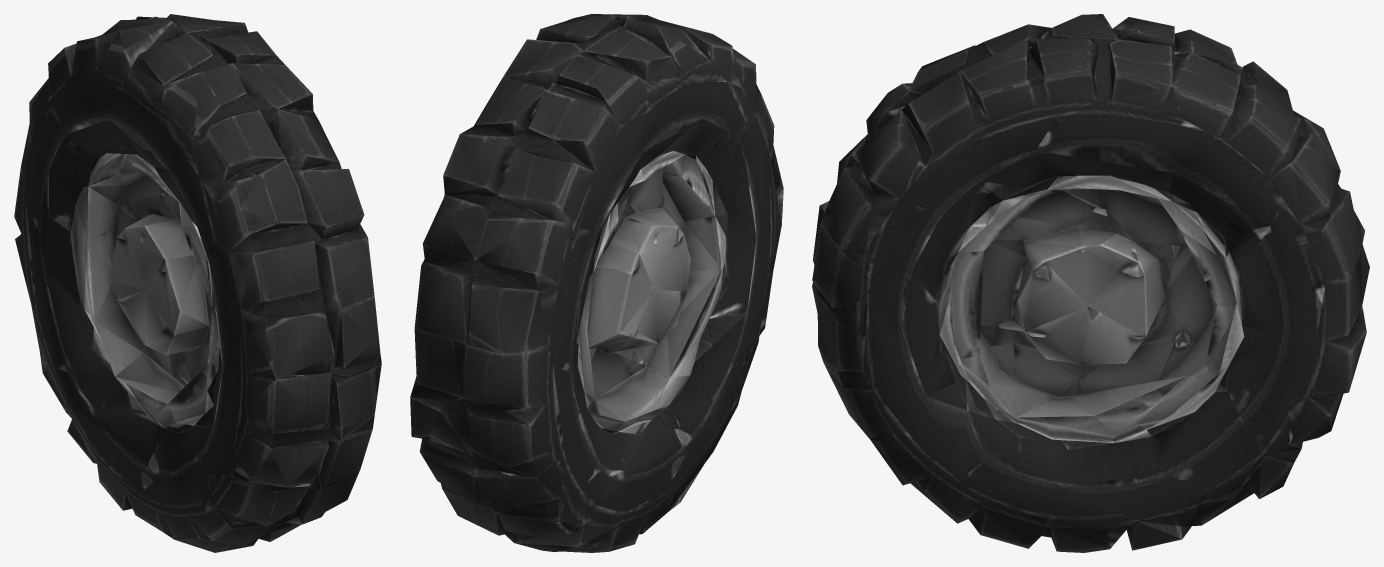
Rendered from shared_flight_deck_ordnance_tractor__wheel_lod1.glb.
3 renders of one model, left to right at view 1: azimuth 30°, elevation 25°; view 2: azimuth 150°, elevation 25°; view 3: azimuth 270°, elevation 25°, orthographic. The views are drawn at different scales.
Visible parts, largest first — view 1: mesh_node; view 2: mesh_node; view 3: mesh_node.
Part boxes in pixels (<box>): mesh_node: <box>14,14,381,552</box>; mesh_node: <box>410,14,783,552</box>; mesh_node: <box>812,14,1369,552</box>.
Size of the model in its own units: 0.2704 by 0.9295 by 0.9272.
Materials: 1 (1 with a texture image).
